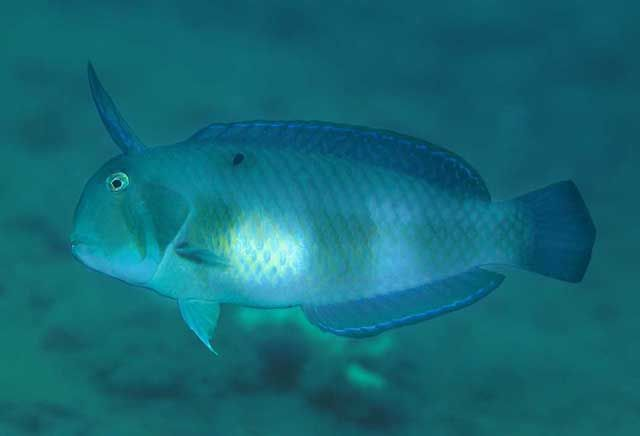fish: (67, 60, 596, 359)
